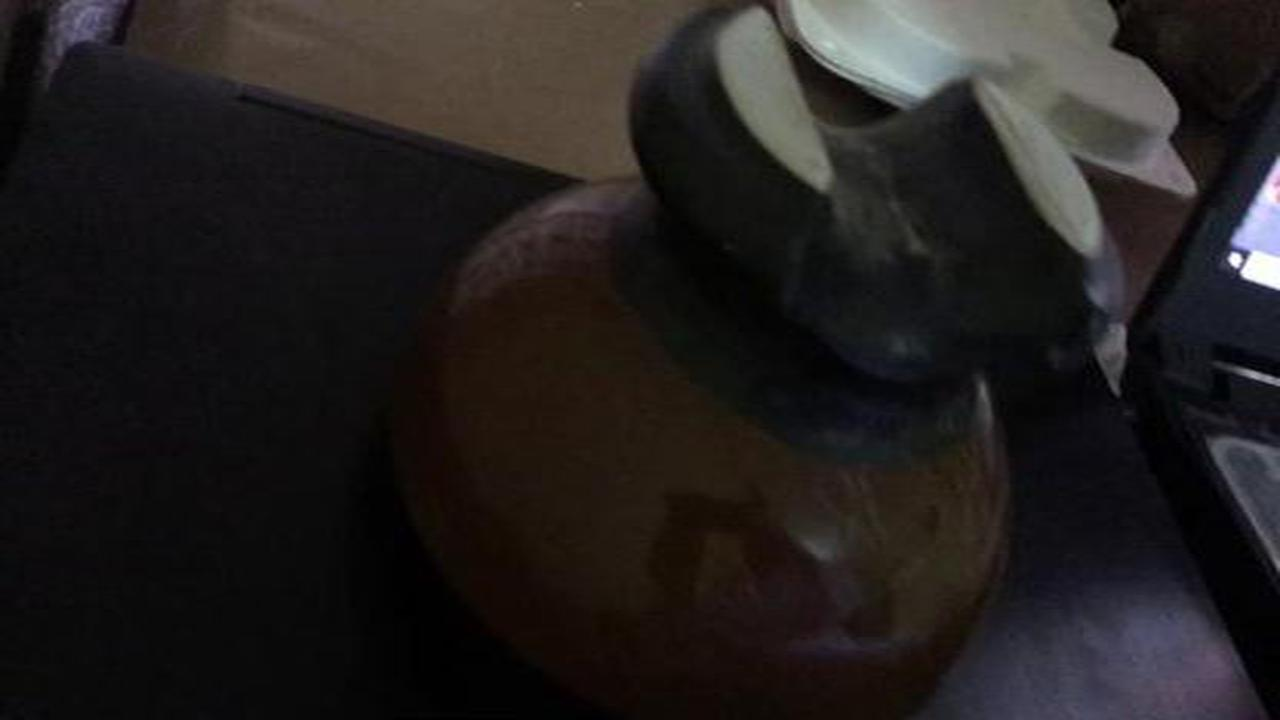insulator_pin: (360, 4, 1154, 717)
